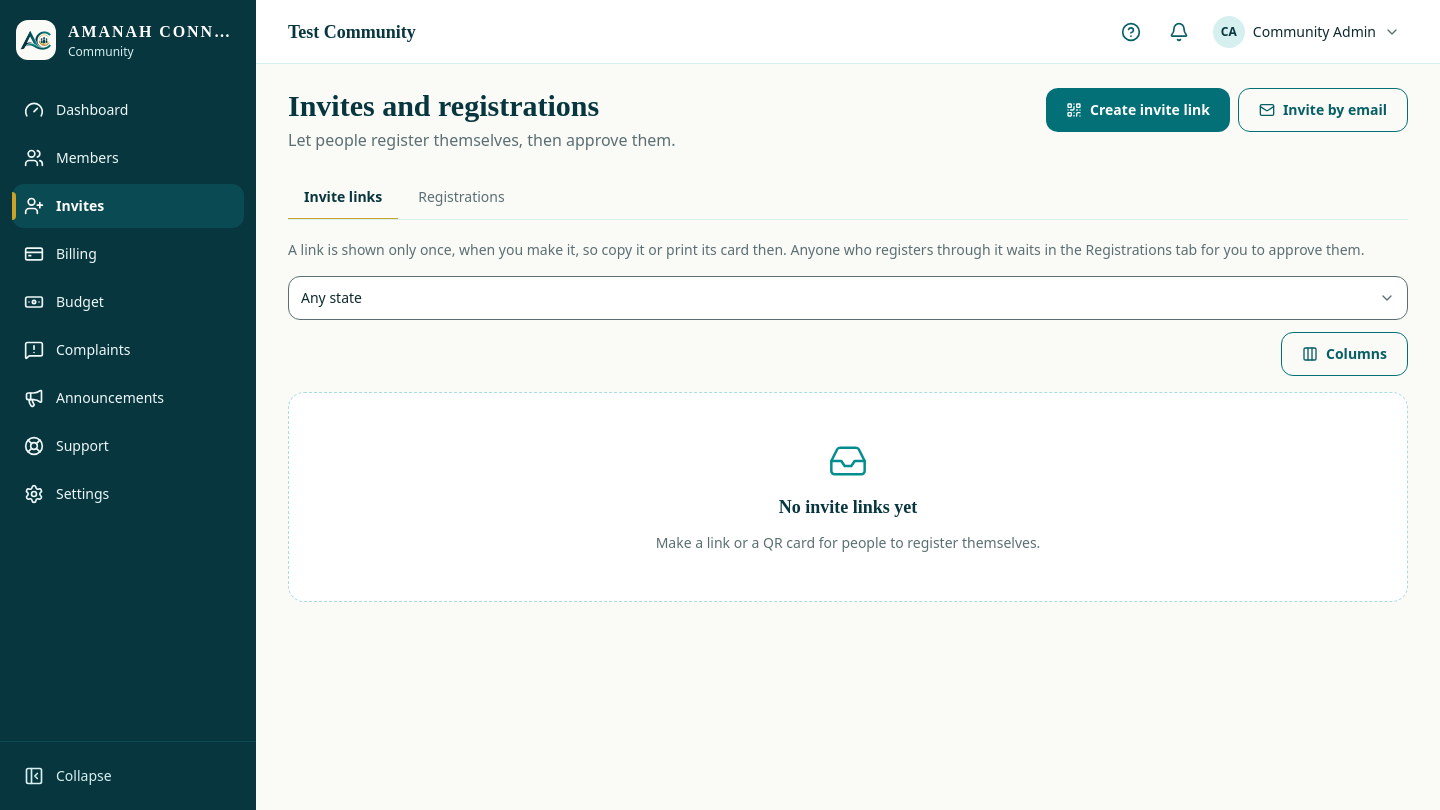
Scenario: Invite links › sends a personal invitation by email
Click the button "Invite by email": (1323, 110) [1238, 88, 1408, 132]
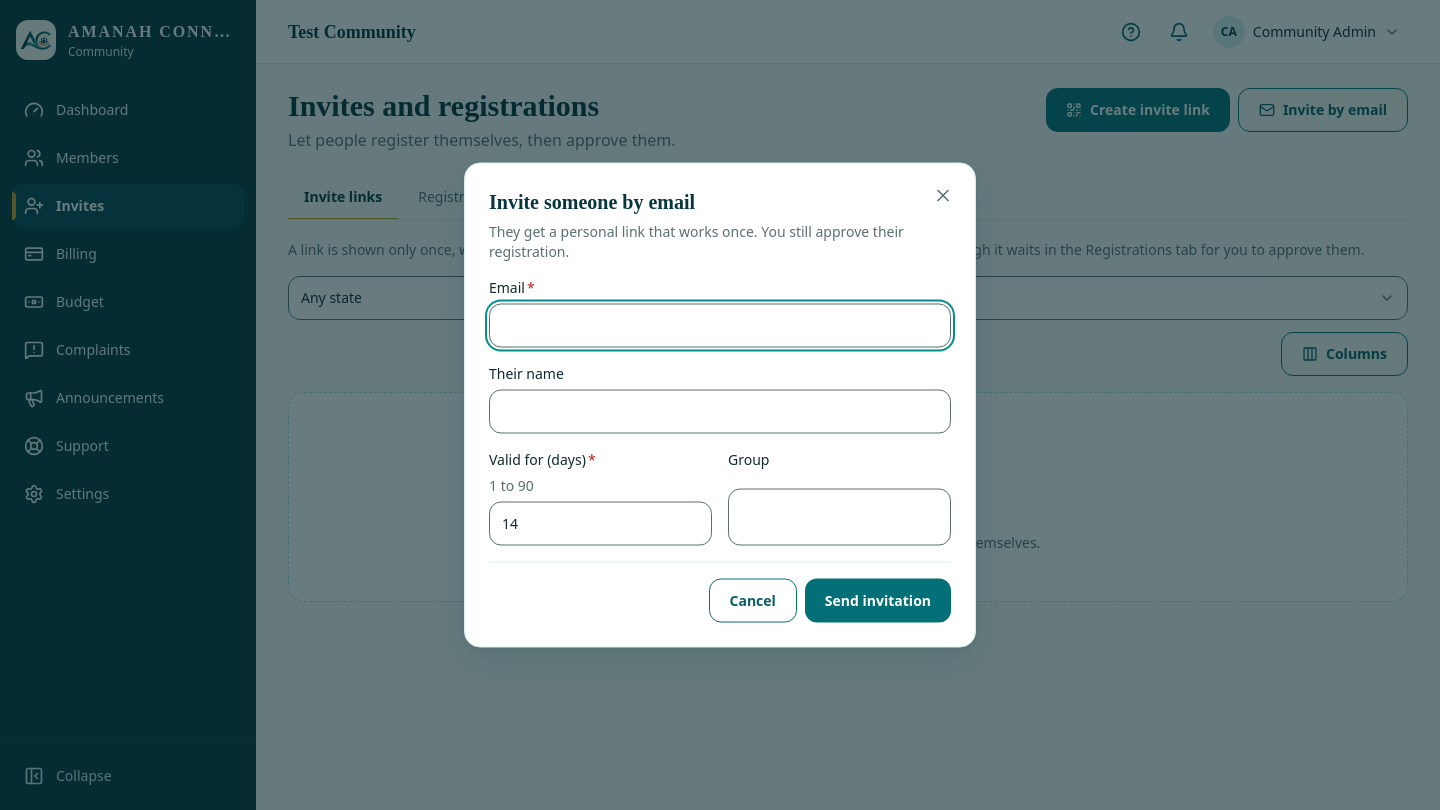
Click the button "Send invitation": (878, 600) [805, 578, 951, 622]
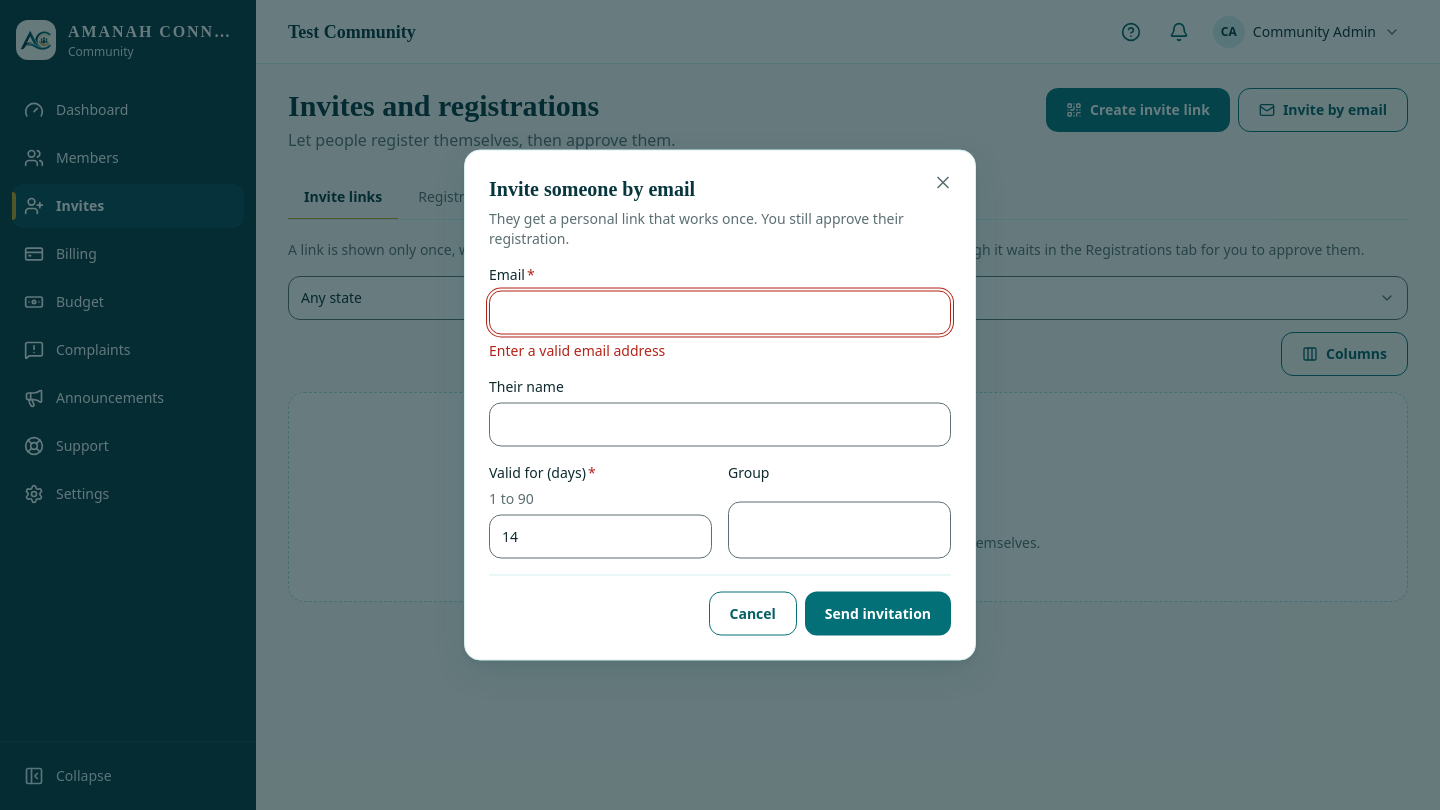
Result: the text "Enter a valid email address" is shown at [489, 340, 665, 360]
In the field labelled "Email*": (720, 312) [489, 290, 951, 334], type "ravi@example.test"
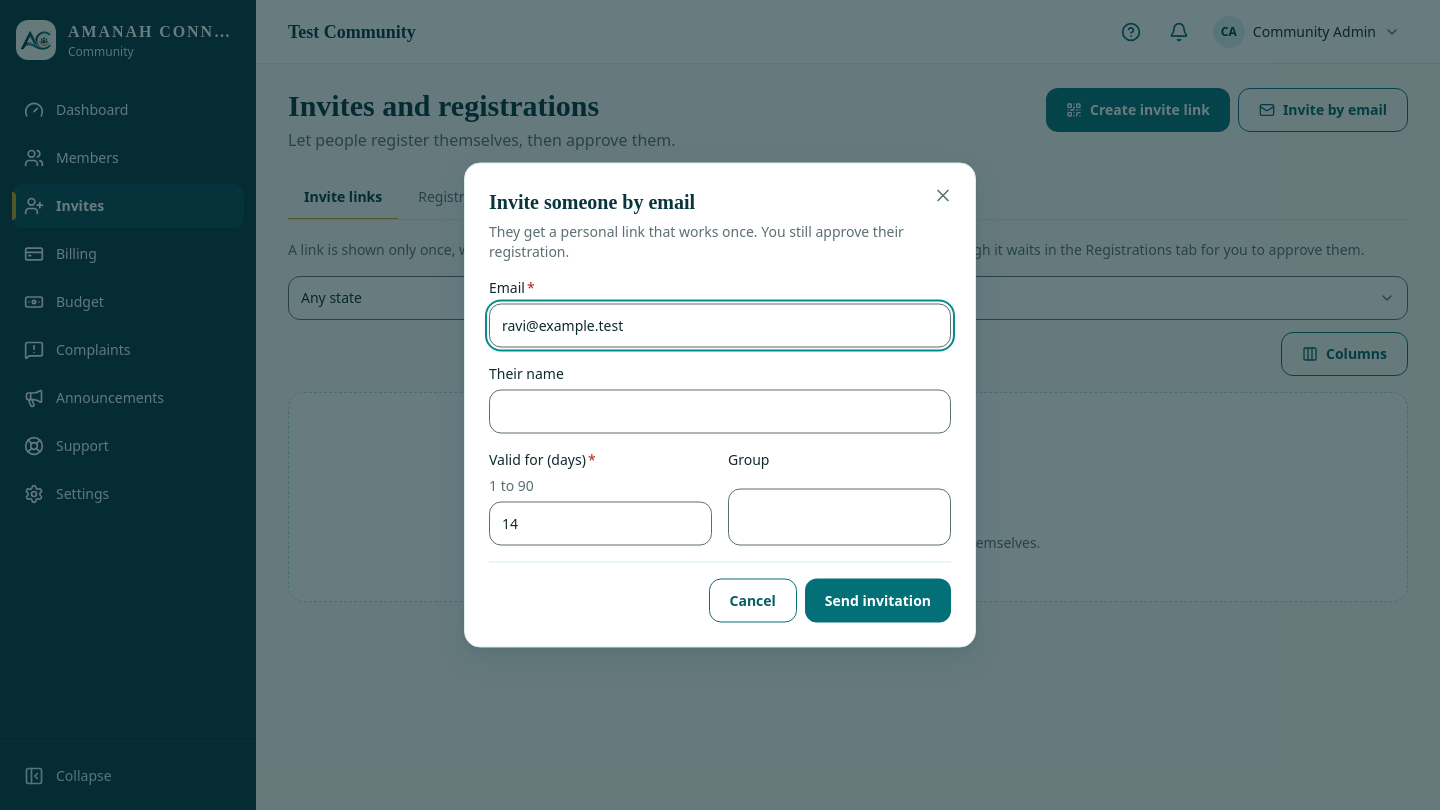
In the field labelled "Their name": (720, 412) [489, 390, 951, 434], type "Ravi Menon"
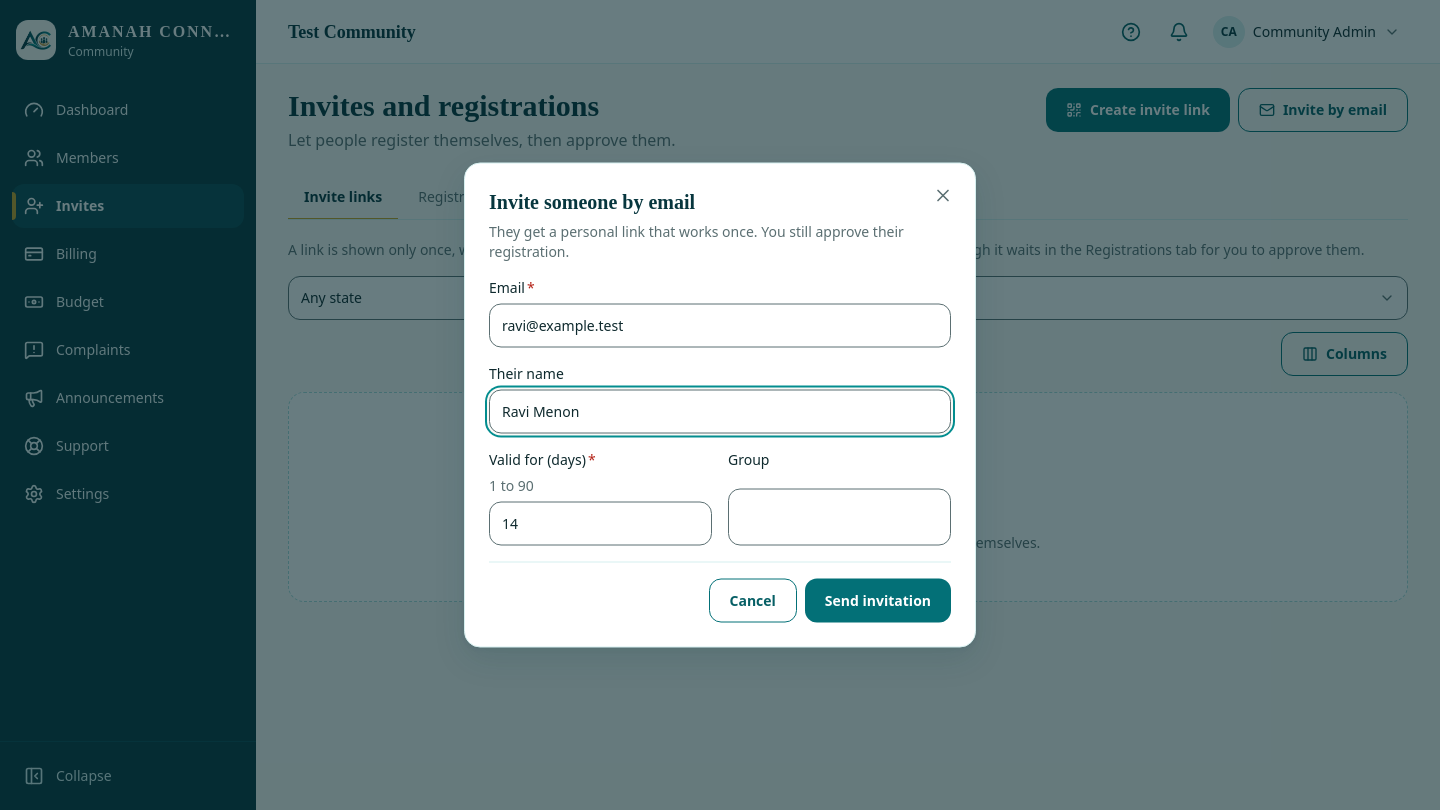
Click the button "Send invitation": (878, 600) [805, 578, 951, 622]
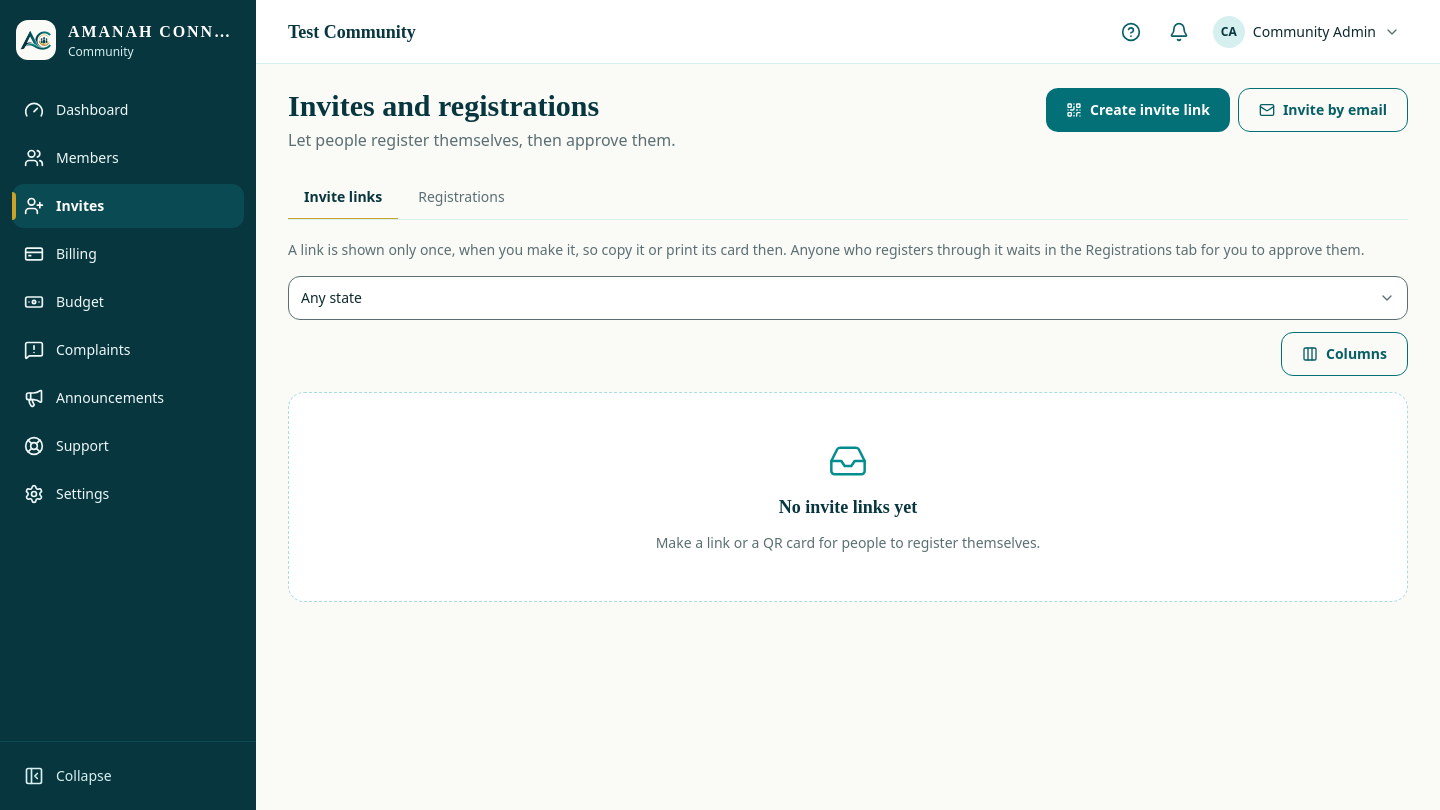
Result: the heading "Invite someone by email" is gone
